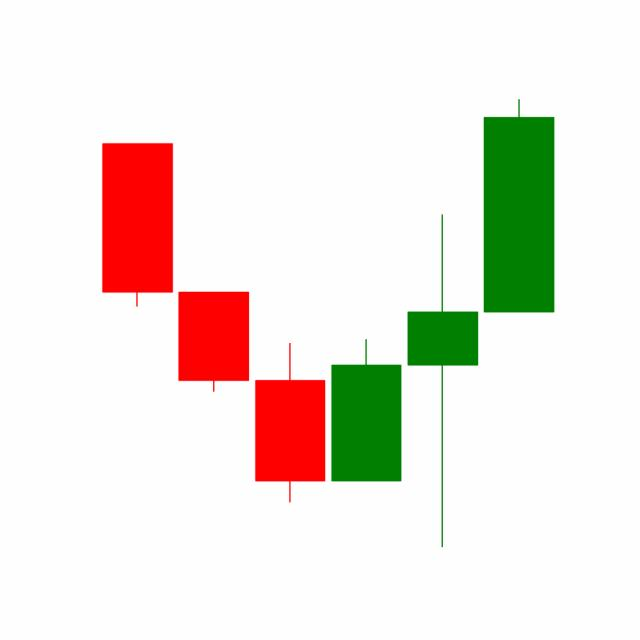Spinning Top: (403, 211, 481, 551)
